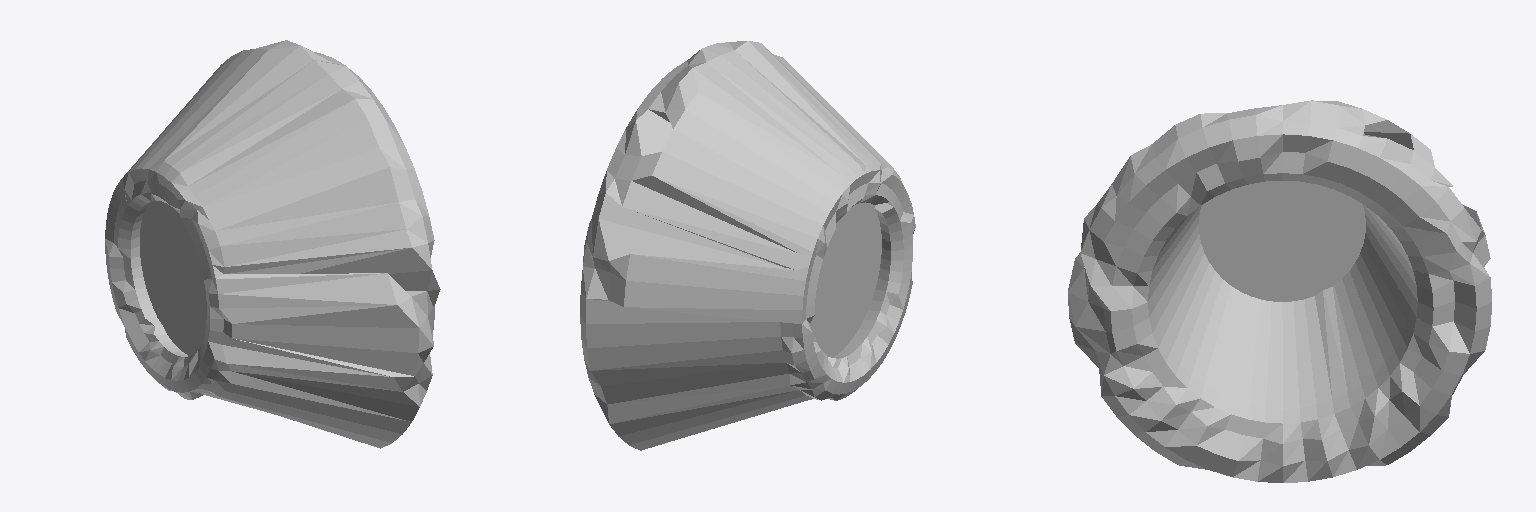
Rendered from void_portal.obj.
The picture shows the model from 3 angles: view 1: azimuth 30°, elevation 25°; view 2: azimuth 150°, elevation 25°; view 3: azimuth 270°, elevation 25°; orthographic projection.
Visible parts, largest first — view 1: Torus, Plane; view 2: Torus, Plane; view 3: Torus, Plane.
Boxes of the visible parts, <box> form: Torus: <box>105,40,440,448</box>; Plane: <box>140,201,206,355</box>; Torus: <box>580,41,915,450</box>; Plane: <box>812,202,881,357</box>; Torus: <box>1068,100,1491,482</box>; Plane: <box>1199,181,1365,301</box>.
Bounding box in the file's own units: 7.4 × 13.52 × 14.08.